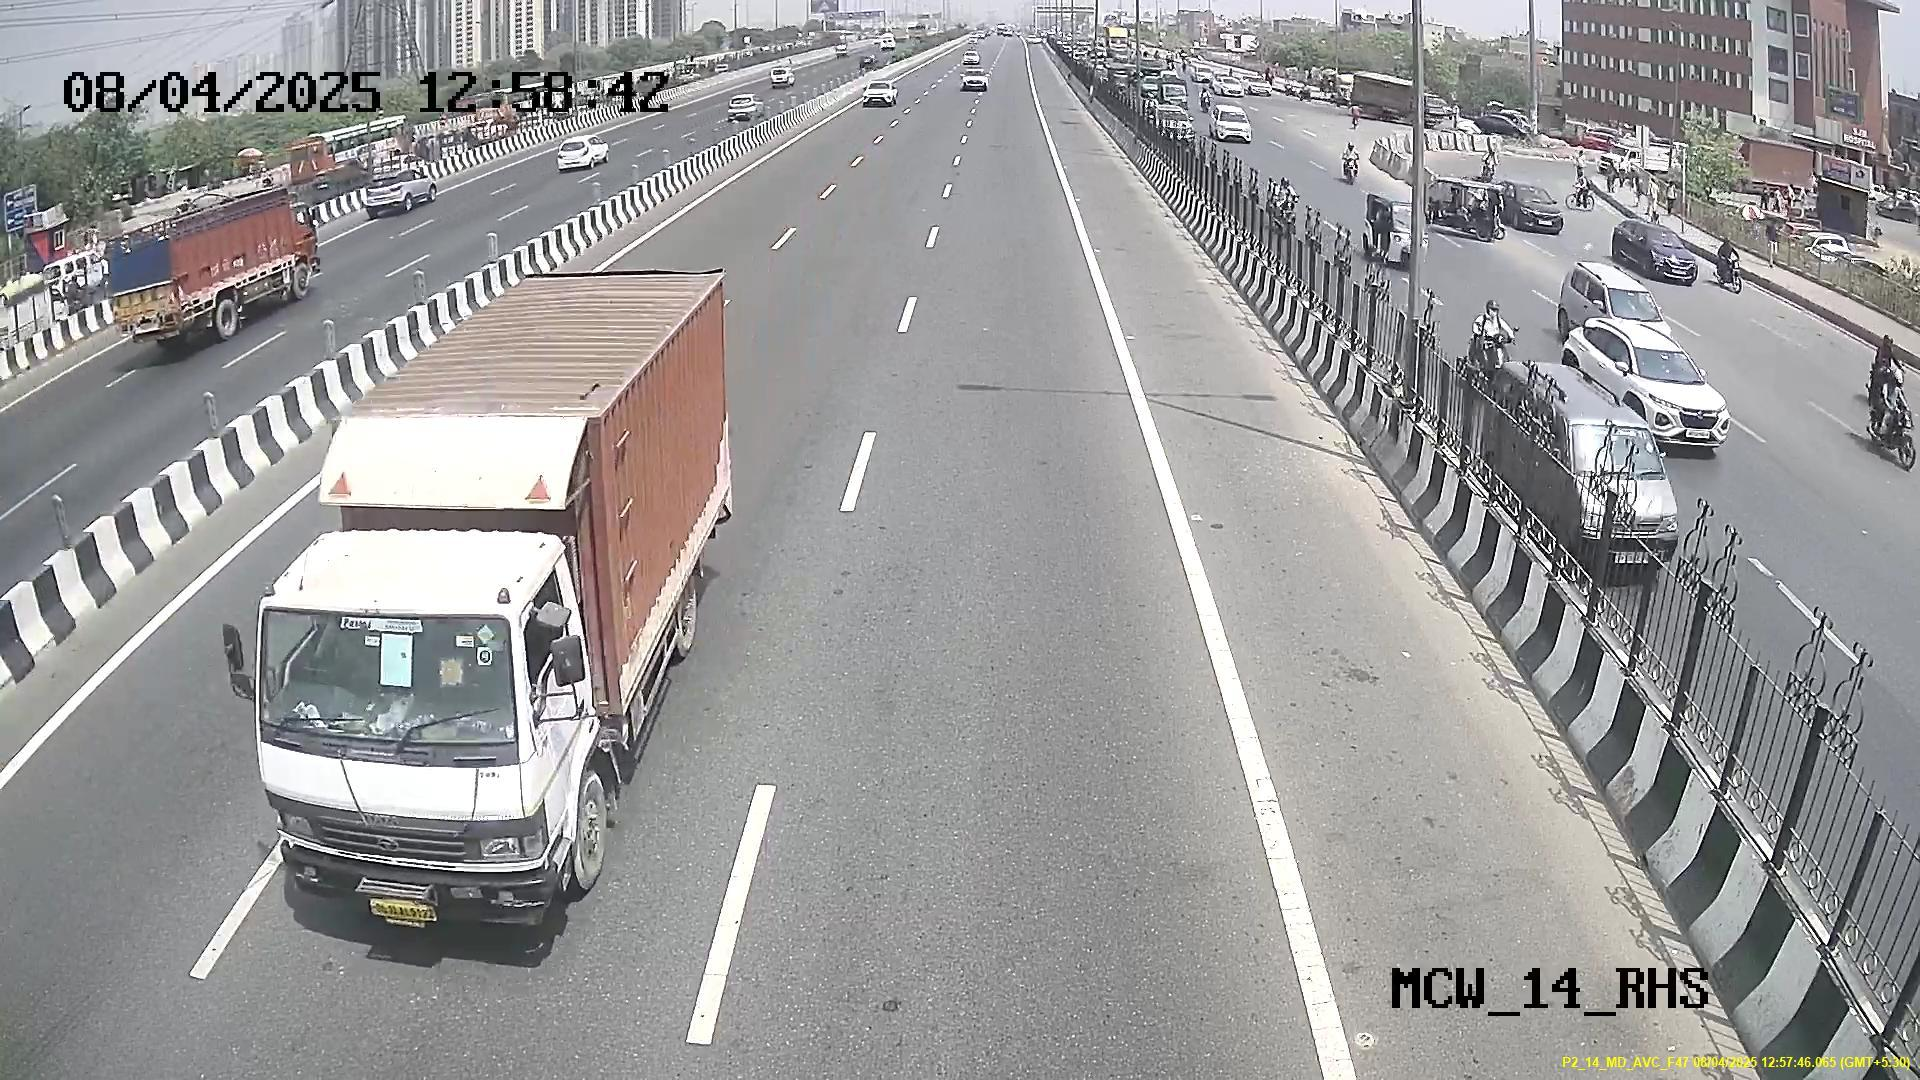lcv: (248, 560, 599, 930)
